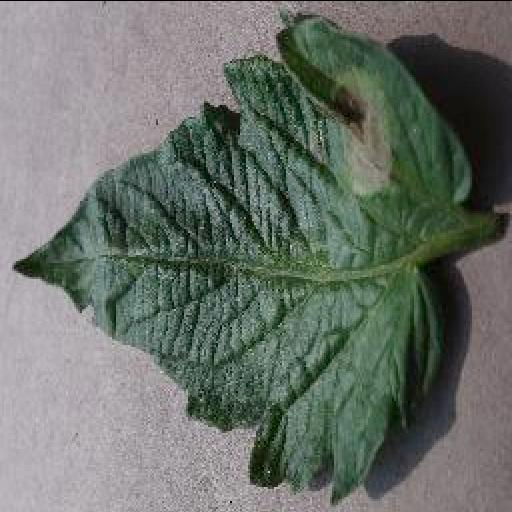disease_tomato: (6, 1, 468, 503)
